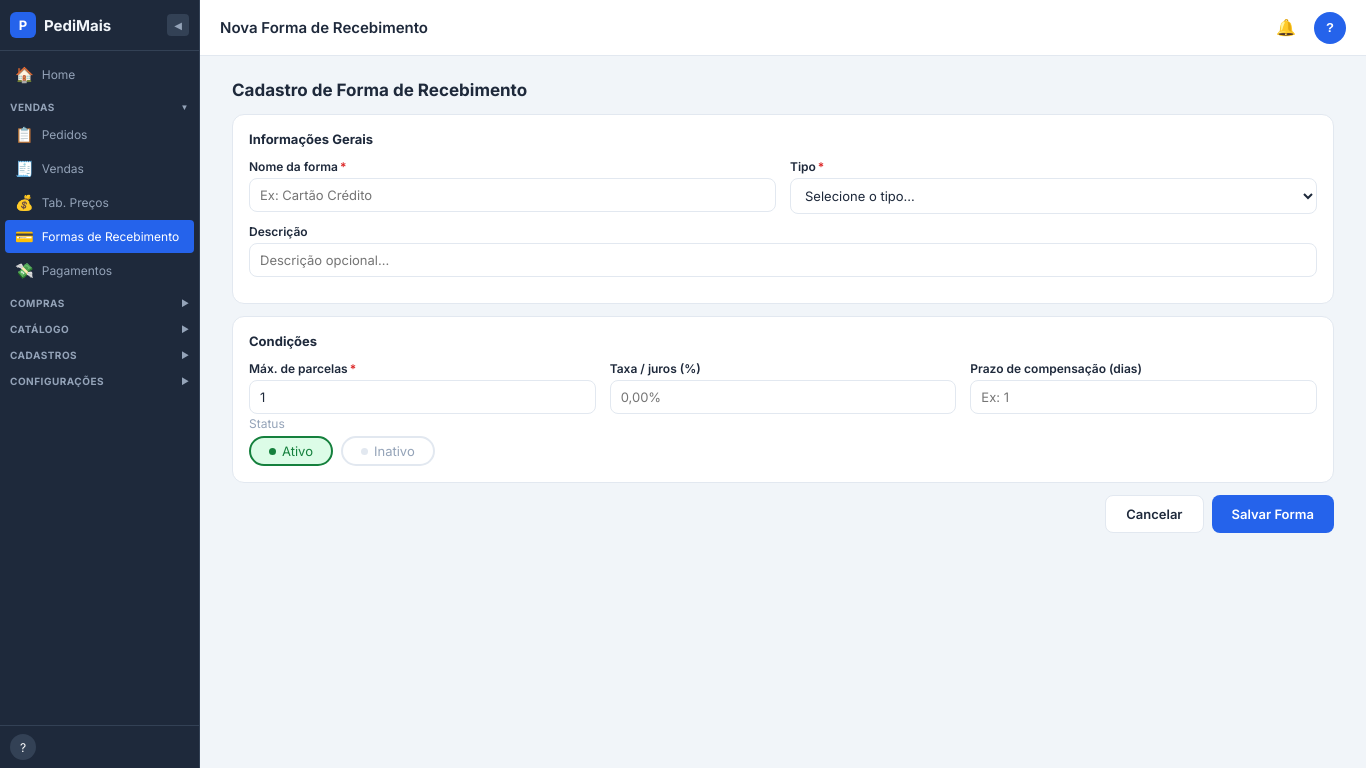
Scenario: PaymentMethodFormView › requires a type before saving
Step 1. Type "Cartão Crédito" into the field with test id "descricao" → (512, 195), box [249, 178, 776, 212]
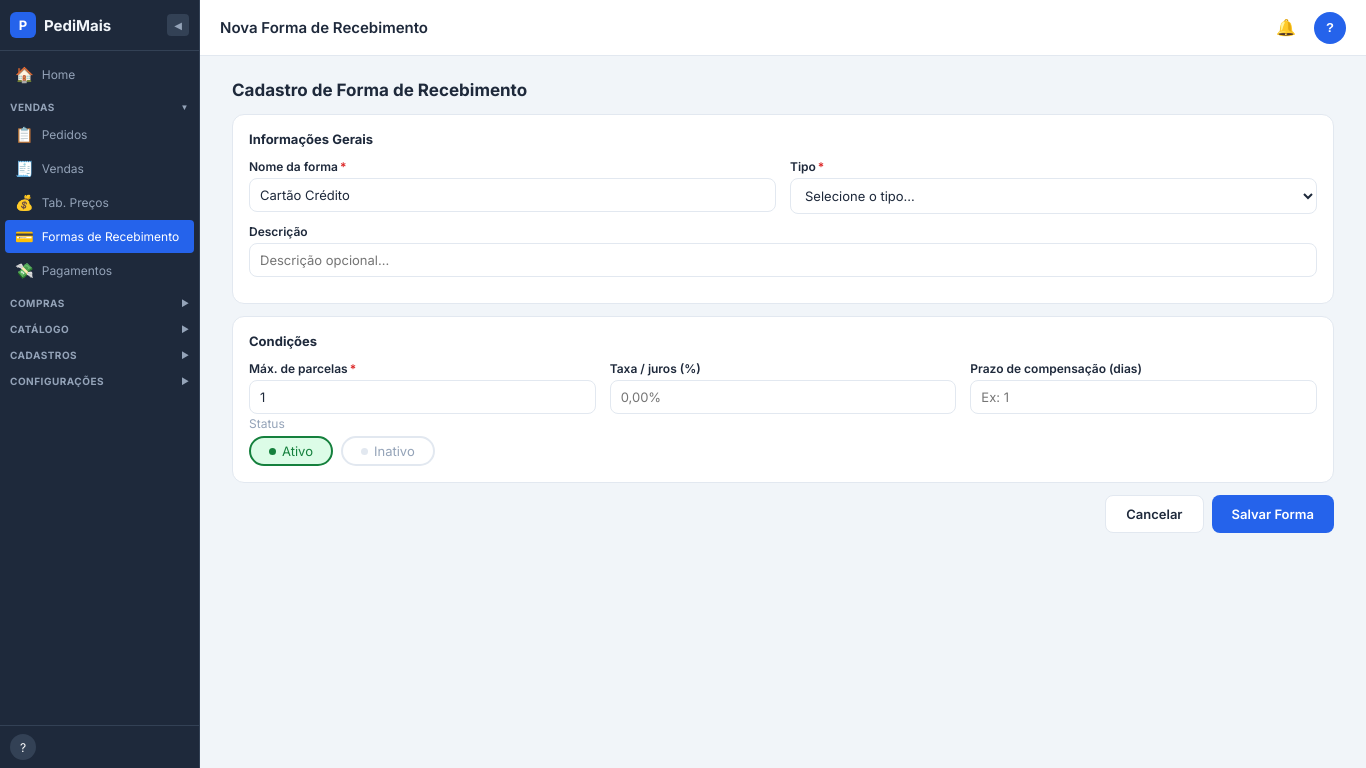
Step 2. Submit the form, box [232, 114, 1334, 533]
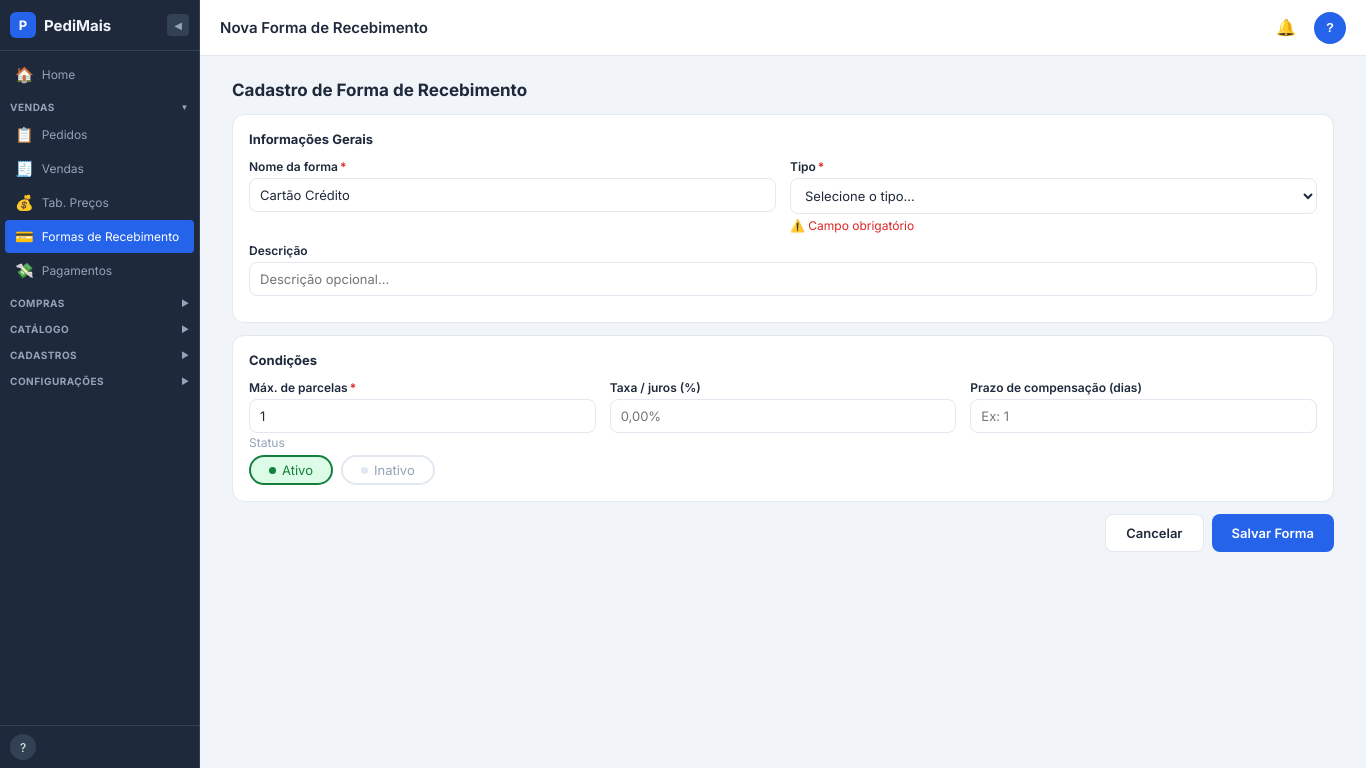
Check: the text "Campo obrigatório" is shown, box [790, 218, 914, 233]
